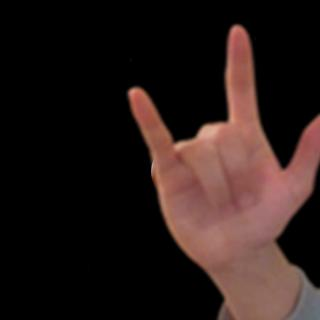ILY: (126, 20, 320, 276)
